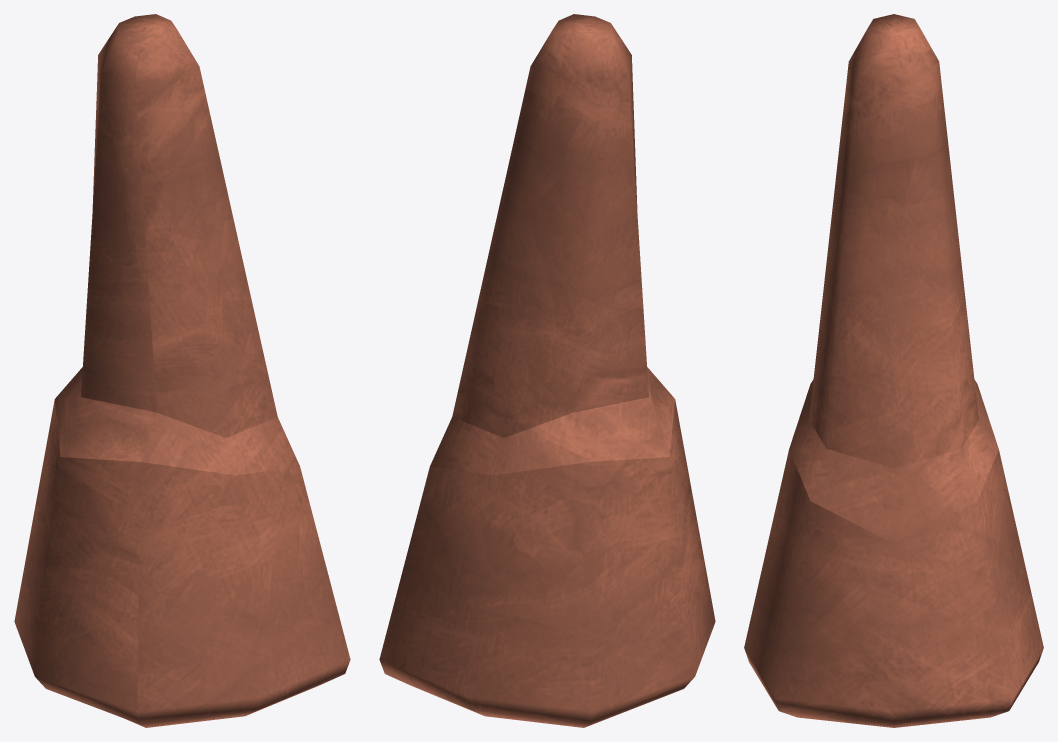
The model's file is Mountain03.glb.
3 renders of one model, left to right at view 1: azimuth 30°, elevation 25°; view 2: azimuth 150°, elevation 25°; view 3: azimuth 270°, elevation 25°, orthographic. The views are drawn at different scales.
Parts seen in each view (by area): view 1: Mountain03; view 2: Mountain03; view 3: Mountain03.
Part boxes in pixels (box(x1,y1,x2,y2)): Mountain03: box(14, 14, 350, 727); Mountain03: box(379, 14, 715, 727); Mountain03: box(744, 14, 1043, 727).
Bounding box in the file's own units: 3.07 × 6.79 × 2.92.
Materials: 1 (1 with a texture image).
